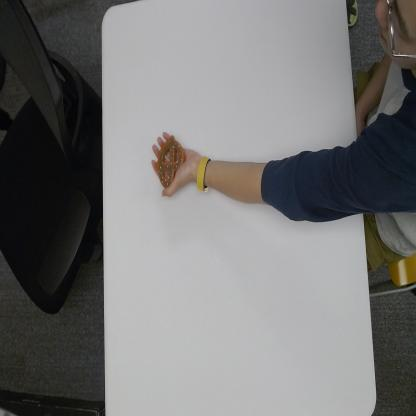Arm: (219, 127, 367, 230)
Pretzel: (153, 133, 186, 184)
